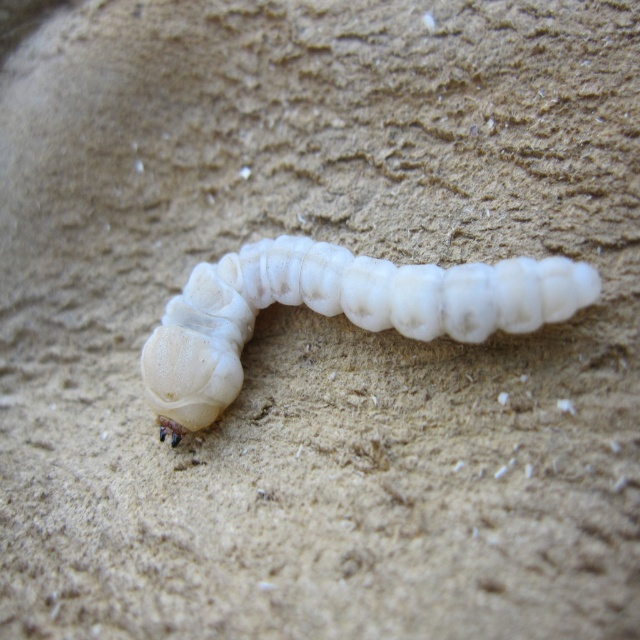Caterpillar: (140, 235, 601, 448)
